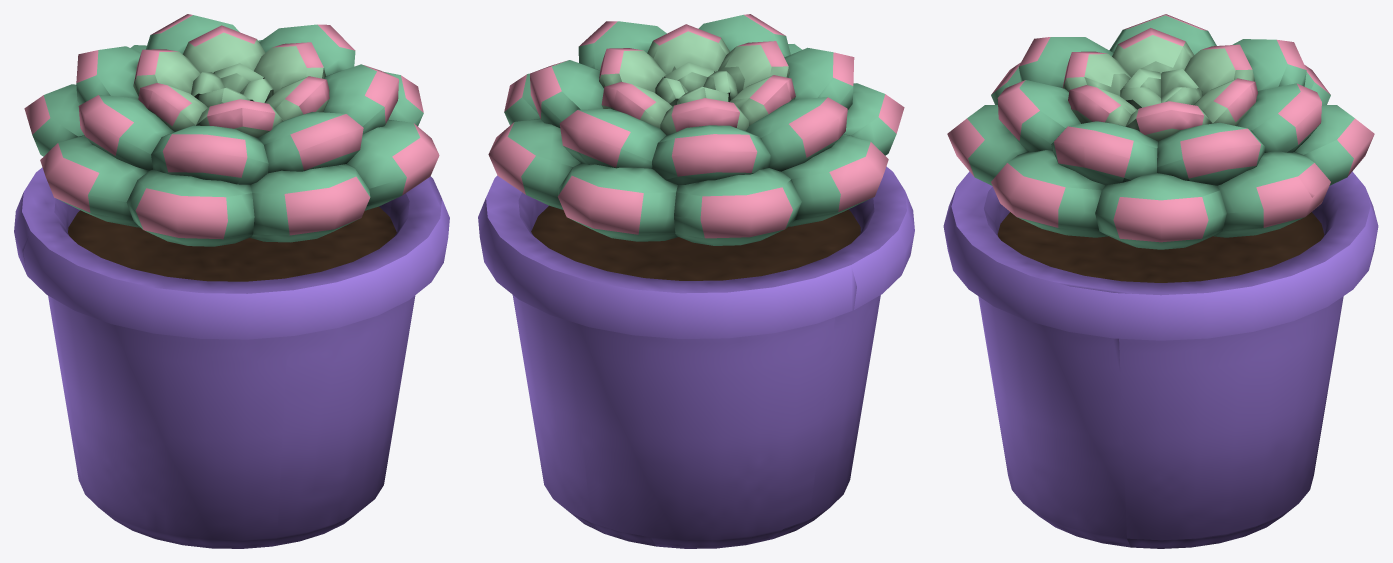
Rendered from succulent.glb.
3 views of the same model, side by side, from view 1: azimuth 30°, elevation 25°; view 2: azimuth 150°, elevation 25°; view 3: azimuth 270°, elevation 25° (orthographic).
Parts seen in each view (by area): view 1: succulent; view 2: succulent; view 3: succulent.
Boxes of the visible parts, x1,y1,x2,y2 form: succulent: [14, 14, 449, 548]; succulent: [478, 14, 914, 548]; succulent: [943, 14, 1378, 548].
Bounding box in the file's own units: 0.0967 × 0.104 × 0.0967.
Materials: 5 (5 with a texture image).
